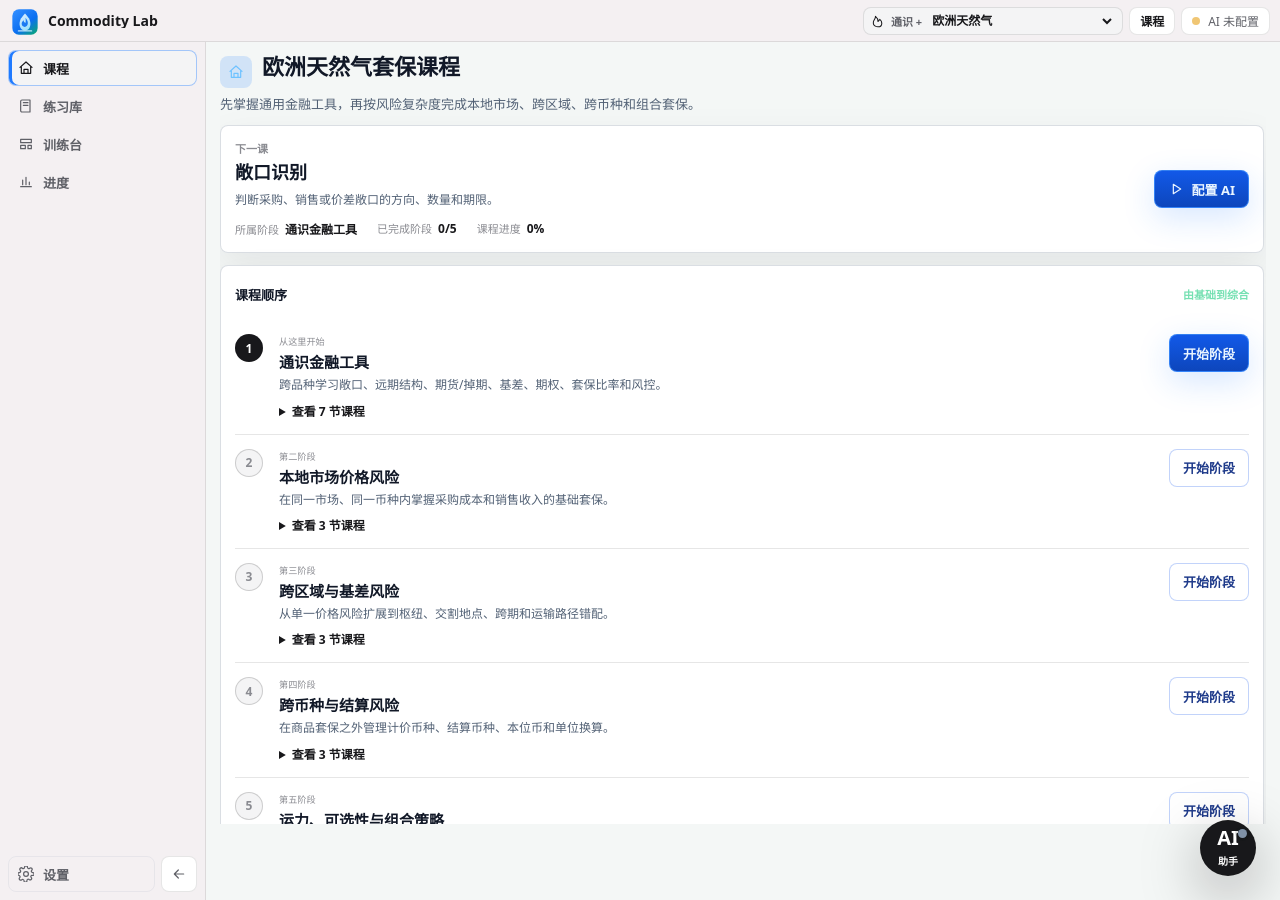
Test case: Commodity Lab shell › opens honest product scaffolds without placeholder courses or progress
Select "北美天然气（课程建设中）" in the dropdown named "课程产品" at (1022, 20), box x1=928 y1=8 x2=1115 y2=34
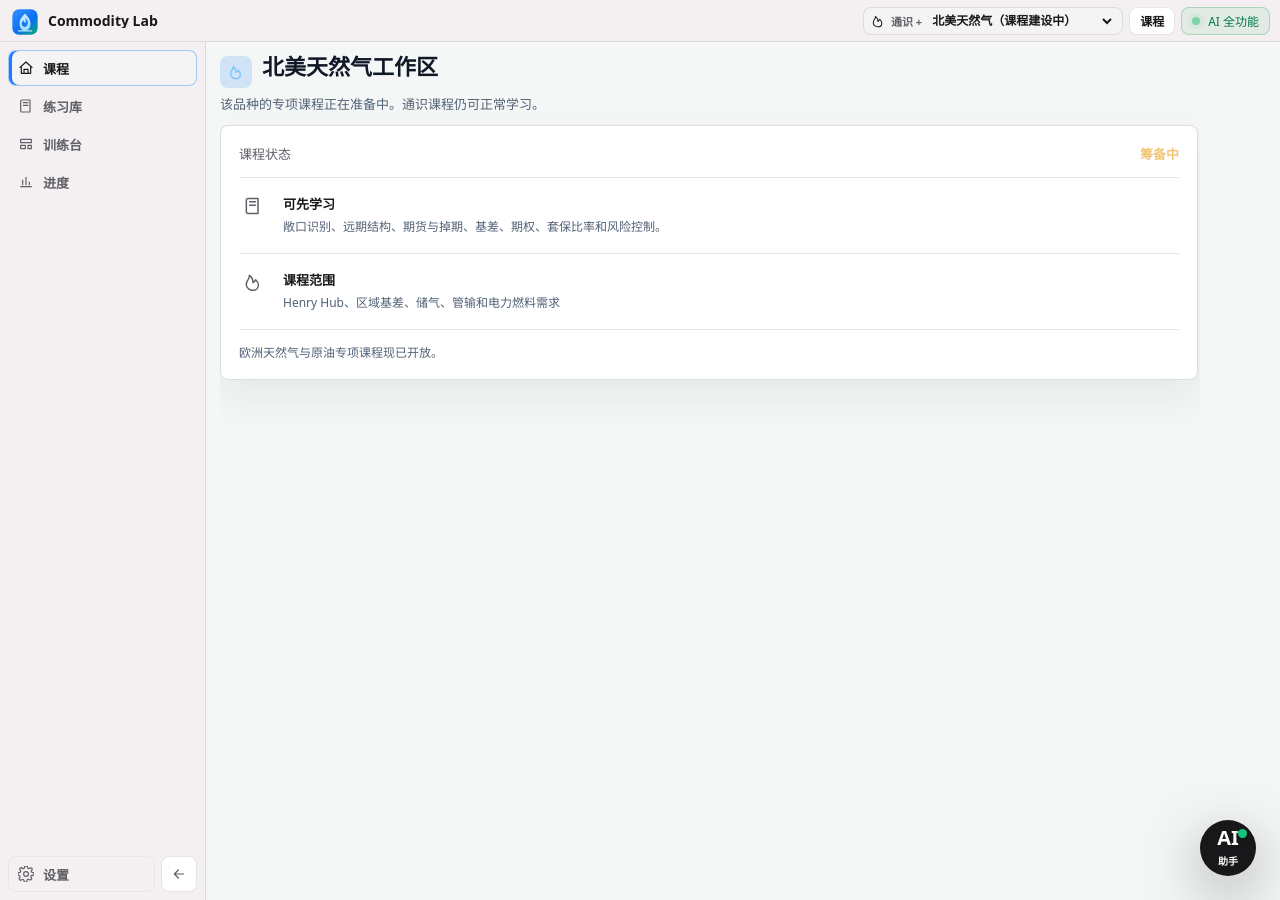
Result: the heading "北美天然气工作区" is shown at x1=262 y1=54 x2=438 y2=81
Result: the text "Henry Hub、区域基差、储气、管输和电力燃料需求" is shown at x1=283 y1=294 x2=560 y2=311
Result: the text "欧洲天然气与原油专项课程现已开放。" is shown at x1=239 y1=344 x2=443 y2=360
